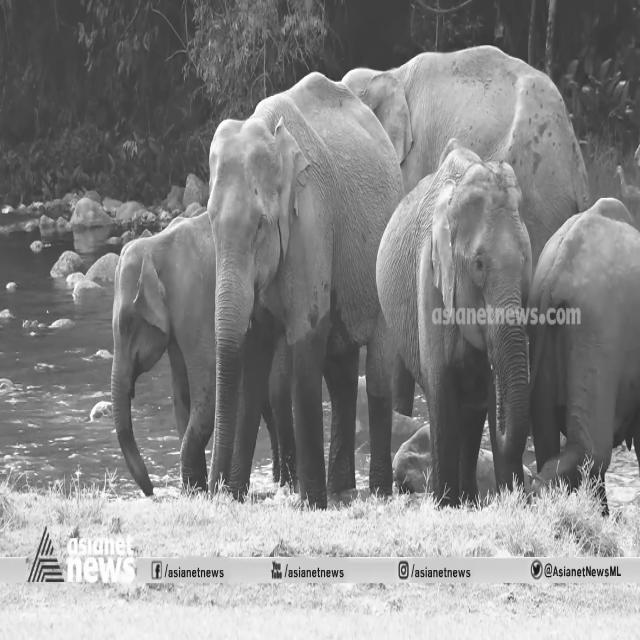ELEPHANT: (205, 62, 393, 485), (109, 215, 207, 503)
